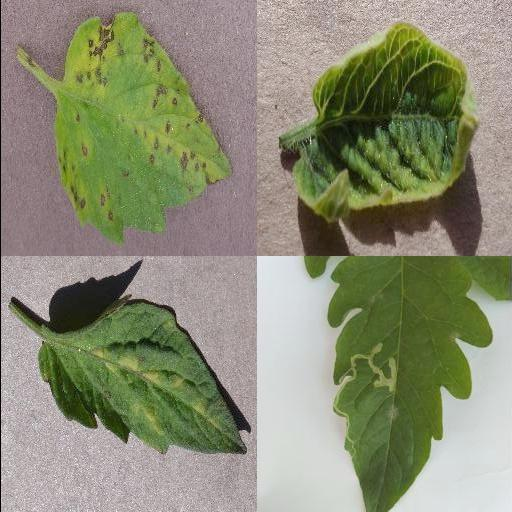Leaf Miner: (326, 256, 492, 512)
Leaf Mold: (36, 296, 248, 456)
Septoria: (52, 11, 234, 245)
Yellow Leaf Curl Virus: (289, 20, 481, 222)
